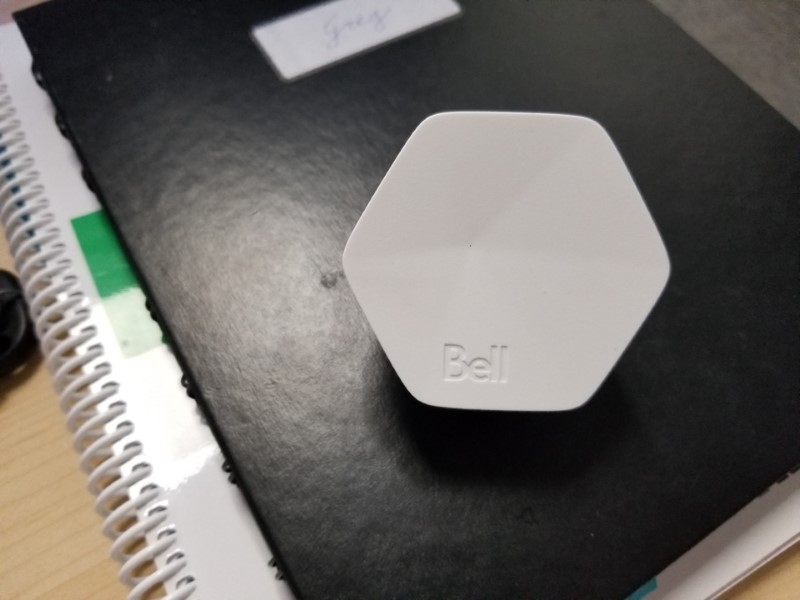pod: (339, 105, 679, 421)
